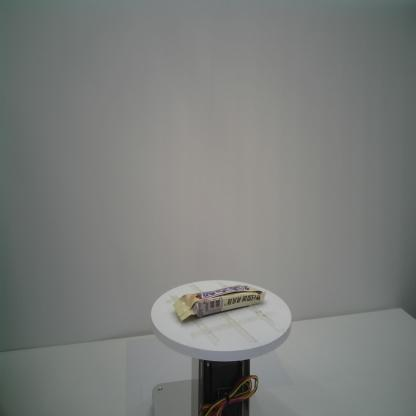Chocolate: (172, 281, 267, 324)
